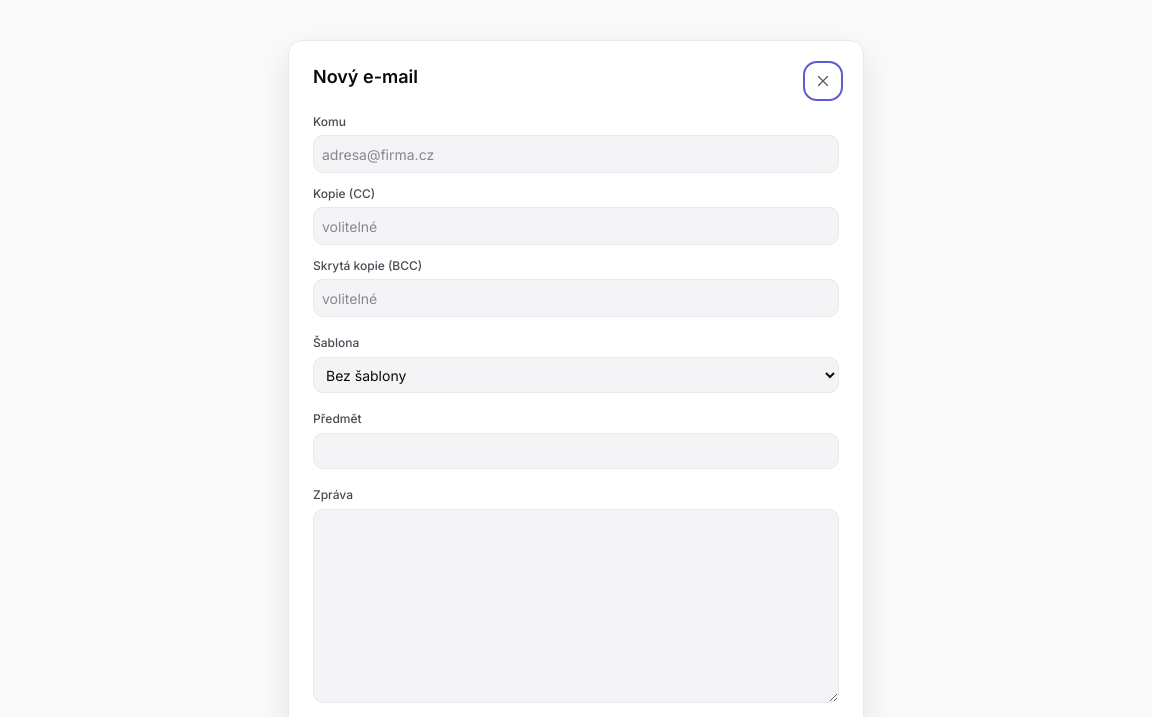
Test: EmailComposeModal — template picker › fills subject and body silently when nothing was typed
The image size is (1152, 717).
Select "První oslovení" in the dropdown with test id "email-compose-template-select" at (576, 375), box [313,357,839,393]
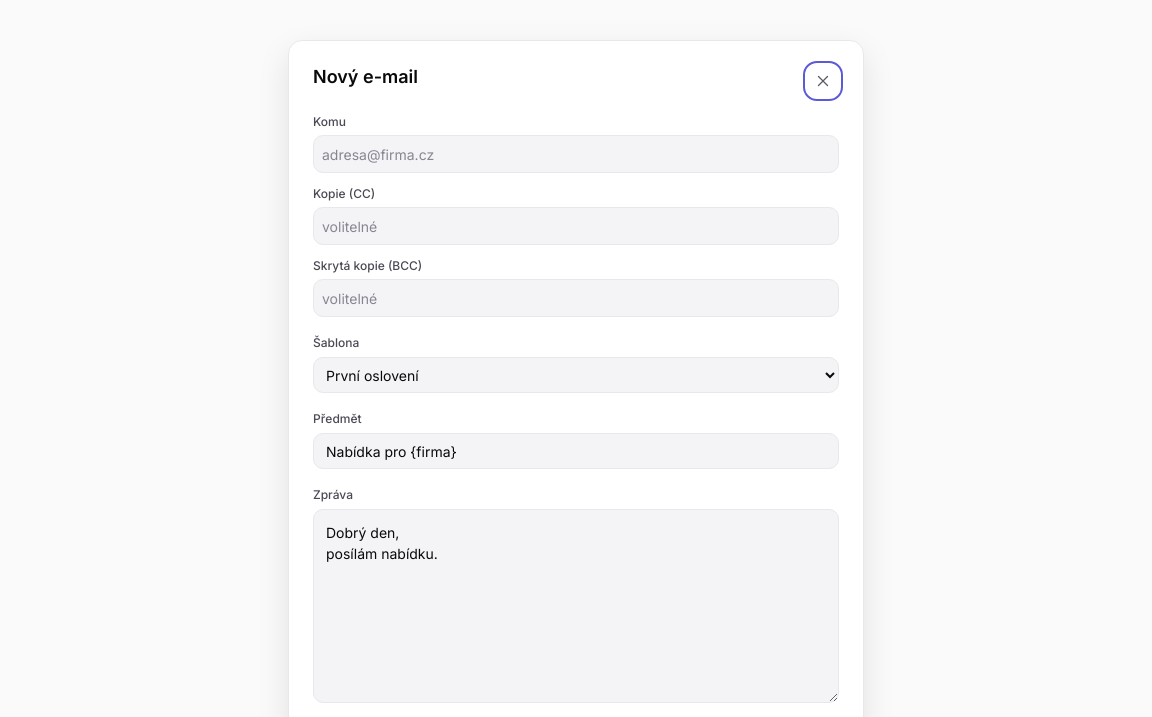
Expected: the field showing "Nabídka pro {firma}" is shown, [313,433,839,469]
